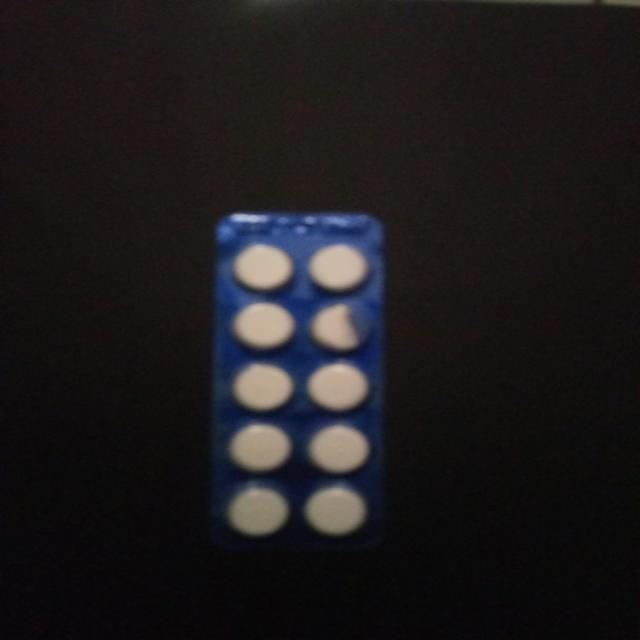defect: (305, 300, 372, 356)
